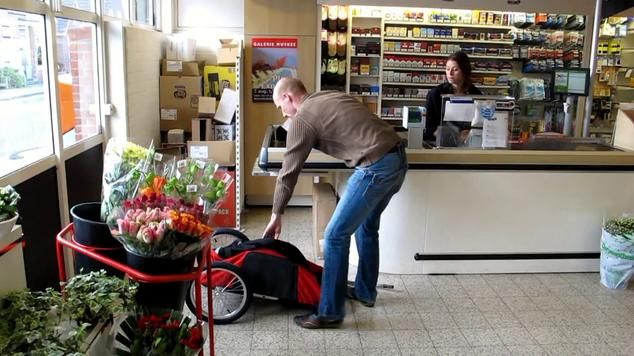sit: (418, 45, 476, 154)
stay: (418, 45, 476, 154)
